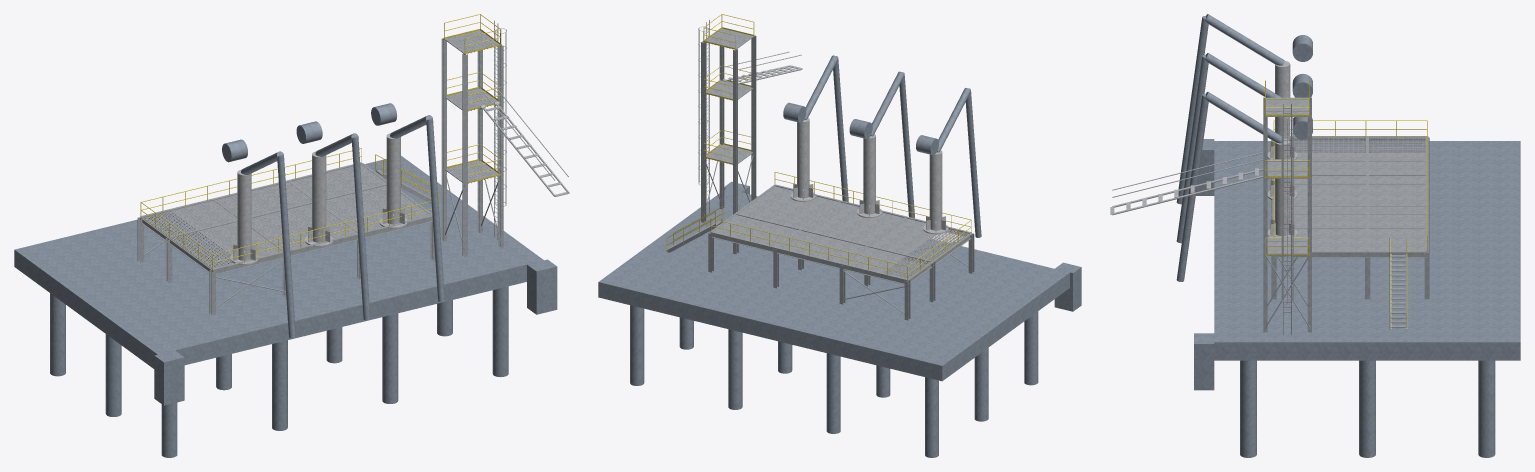
The model's file is marine-loading-platforms.glb.
The picture shows the model from 3 angles, left to right: view 1: azimuth 30°, elevation 25°; view 2: azimuth 150°, elevation 25°; view 3: azimuth 270°, elevation 25°; orthographic projection. The views are drawn at different scales.
Visible parts, largest first — view 1: Jetty&LoadingArms(context), LoadingPlatformFrame, AccessTower, ArmPedestals&Risers, Handrails&Ladders, Gangway; view 2: Jetty&LoadingArms(context), LoadingPlatformFrame, AccessTower, ArmPedestals&Risers, Handrails&Ladders, Gangway; view 3: Jetty&LoadingArms(context), LoadingPlatformFrame, AccessTower, ArmPedestals&Risers, Handrails&Ladders, Gangway.
Part boxes in pixels (x1=…): Jetty&LoadingArms(context): x1=14, y1=103, x2=557, y2=457; LoadingPlatformFrame: x1=137, y1=162, x2=435, y2=315; AccessTower: x1=441, y1=20, x2=506, y2=257; ArmPedestals&Risers: x1=230, y1=133, x2=407, y2=264; Handrails&Ladders: x1=140, y1=14, x2=501, y2=270; Gangway: x1=480, y1=87, x2=569, y2=196; Jetty&LoadingArms(context): x1=598, y1=55, x2=1081, y2=457; LoadingPlatformFrame: x1=666, y1=184, x2=974, y2=320; AccessTower: x1=698, y1=20, x2=756, y2=222; ArmPedestals&Risers: x1=790, y1=118, x2=948, y2=234; Handrails&Ladders: x1=666, y1=14, x2=971, y2=280; Gangway: x1=722, y1=51, x2=802, y2=84; Jetty&LoadingArms(context): x1=1176, y1=14, x2=1520, y2=457; LoadingPlatformFrame: x1=1271, y1=136, x2=1429, y2=328; AccessTower: x1=1263, y1=97, x2=1311, y2=335; ArmPedestals&Risers: x1=1267, y1=61, x2=1297, y2=236; Handrails&Ladders: x1=1265, y1=80, x2=1427, y2=329; Gangway: x1=1110, y1=152, x2=1268, y2=215.
Size of the model in its own units: 28.5 by 23.32 by 24.13.
Materials: 4 (4 with a texture image).
